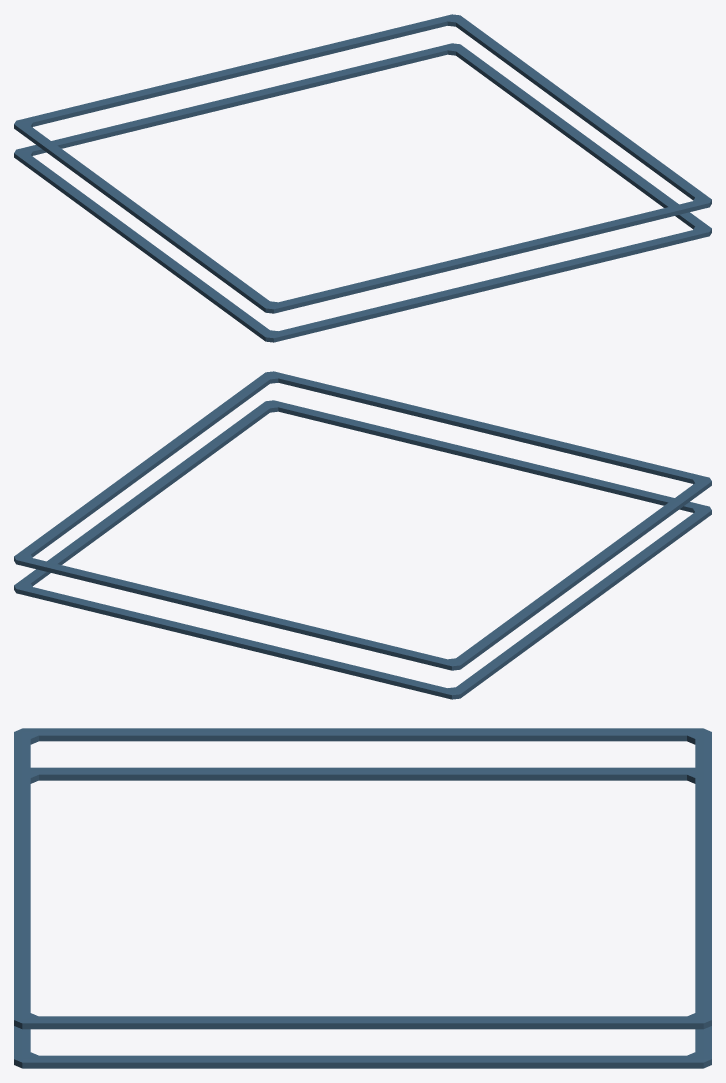
File: fence.obj
The picture shows the model from 3 angles, top to bottom: view 1: azimuth 30°, elevation 25°; view 2: azimuth 150°, elevation 25°; view 3: azimuth 270°, elevation 25°; orthographic projection. The views are drawn at different scales.
Parts seen in each view (by area): view 1: fence_Cube; view 2: fence_Cube; view 3: fence_Cube.
Part boxes in pixels (left/top/right/bottom): fence_Cube: left=14, top=14, right=711, bottom=342; fence_Cube: left=14, top=371, right=711, bottom=699; fence_Cube: left=14, top=728, right=711, bottom=1068.
Bounding box in the file's own units: 21 × 1.5 × 21.
